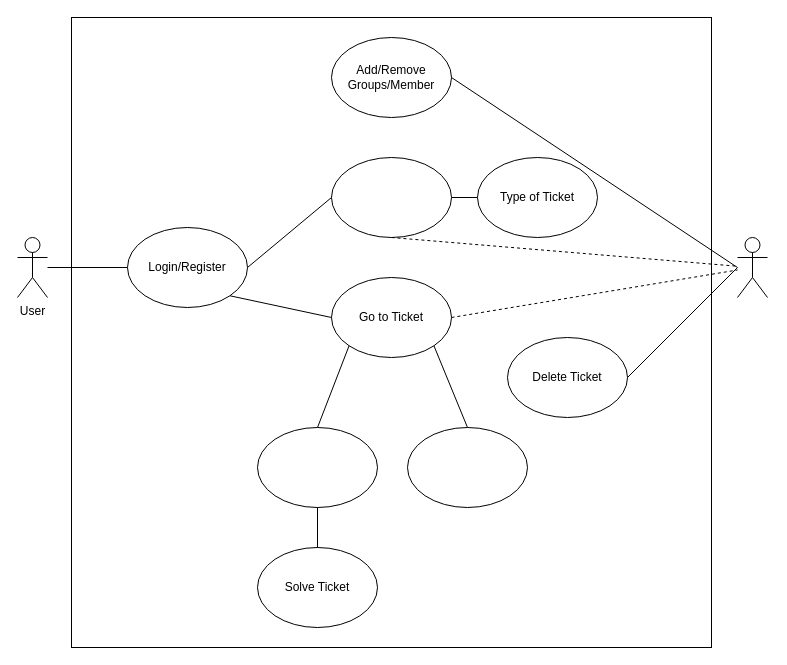
The diagram is 787 pixels wide and 665 high, and some of its shapes have lost their labels. Here are the shapes that lost their labels. From the top down, the centre of each, then its label:
At pixel 391 197: "Create Ticket".
At pixel 752 267: "Admin".
At pixel 317 467: "Edit Ticket".
At pixel 467 467: "Add Work-Log".
